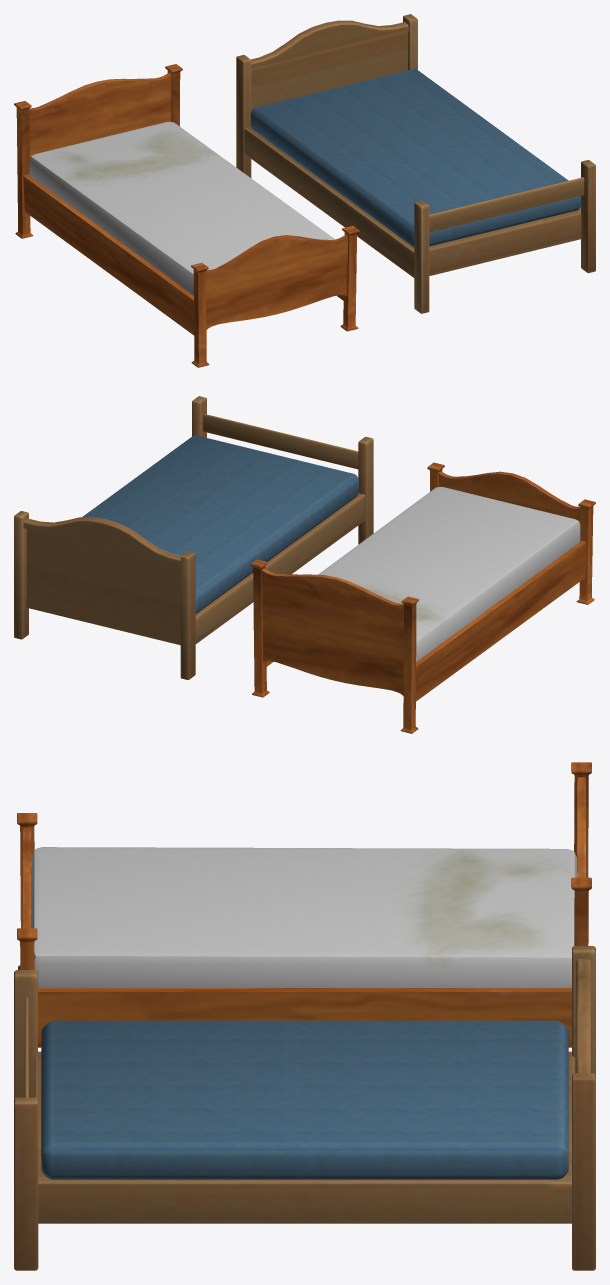
File: single_bed.fbx
The picture shows the model from 3 angles, top to bottom: view 1: azimuth 30°, elevation 25°; view 2: azimuth 150°, elevation 25°; view 3: azimuth 270°, elevation 25°; orthographic projection. The views are drawn at different scales.
Parts seen in each view (by area): view 1: single_bed_2, single_bed_1; view 2: single_bed_2, single_bed_1; view 3: single_bed_2, single_bed_1.
Part boxes in pixels (x1,y1,x2,y2): single_bed_2: [236, 14, 595, 313]; single_bed_1: [14, 64, 359, 367]; single_bed_2: [14, 396, 373, 679]; single_bed_1: [250, 462, 595, 733]; single_bed_2: [14, 946, 595, 1270]; single_bed_1: [17, 762, 591, 1047].
Size of the model in its own units: 2.97 by 0.9731 by 2.4.
